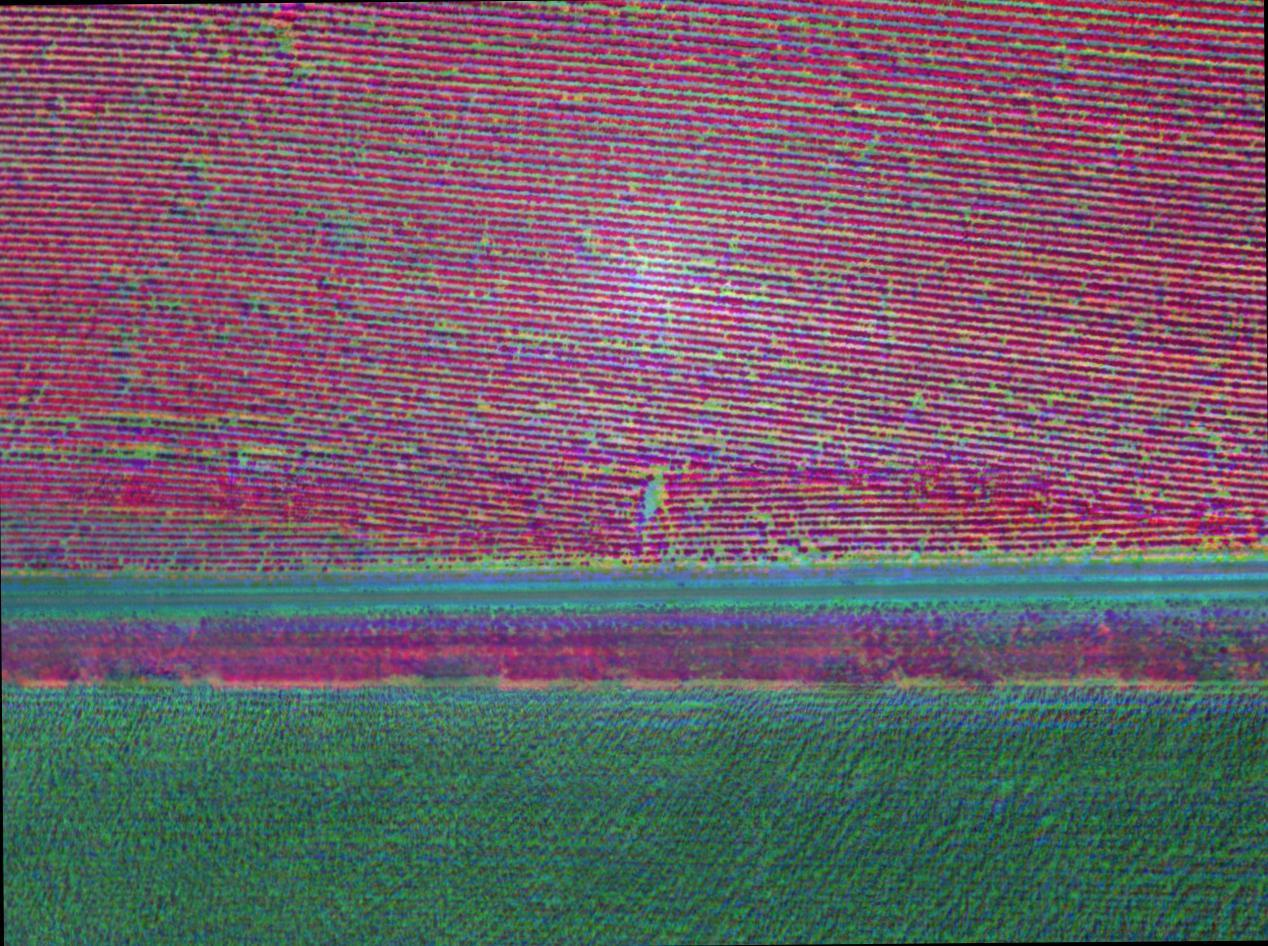dc: (649, 501, 656, 510), (653, 486, 659, 493), (1056, 47, 1063, 52), (1124, 53, 1131, 58), (139, 449, 145, 454), (965, 208, 970, 213), (229, 24, 234, 29), (177, 32, 183, 36), (68, 417, 73, 421), (627, 6, 632, 10), (954, 384, 958, 388), (1049, 396, 1053, 400), (301, 68, 305, 72), (408, 411, 411, 416), (216, 189, 219, 193)
